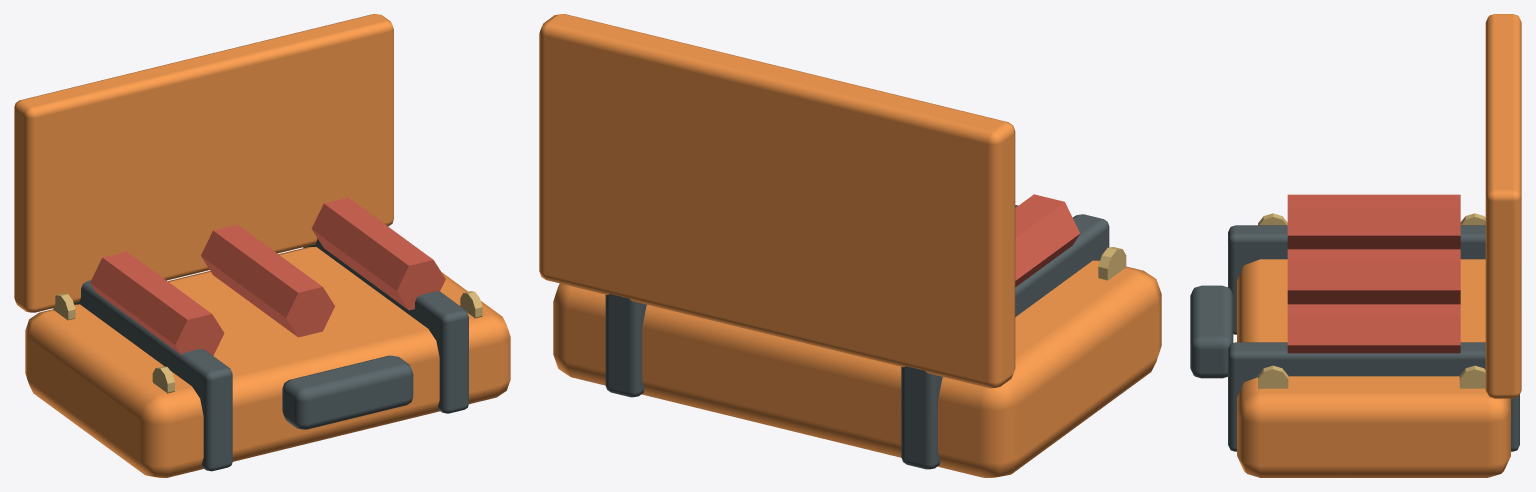
Rendered from castaway-island-escape-flare-launcher-case-0e0f378e__28061.glb.
The picture shows the model from 3 angles, left to right: view 1: azimuth 30°, elevation 25°; view 2: azimuth 150°, elevation 25°; view 3: azimuth 270°, elevation 25°; orthographic projection. The views are drawn at different scales.
Visible parts, largest first — view 1: flare-launcher-case-orange, flare-launcher-case-red, flare-launcher-case-iron, flare-launcher-case-brass; view 2: flare-launcher-case-orange, flare-launcher-case-iron, flare-launcher-case-red, flare-launcher-case-brass; view 3: flare-launcher-case-orange, flare-launcher-case-red, flare-launcher-case-iron, flare-launcher-case-brass.
Boxes of the visible parts, box(x1,y1,x2,y2) form: flare-launcher-case-orange: box(14, 14, 510, 477); flare-launcher-case-red: box(90, 197, 445, 355); flare-launcher-case-iron: box(74, 238, 468, 471); flare-launcher-case-brass: box(53, 291, 482, 393); flare-launcher-case-orange: box(539, 14, 1161, 477); flare-launcher-case-iron: box(605, 205, 1109, 469); flare-launcher-case-red: box(1015, 194, 1079, 287); flare-launcher-case-brass: box(1098, 247, 1126, 280); flare-launcher-case-orange: box(1237, 14, 1521, 477); flare-launcher-case-red: box(1287, 194, 1460, 353); flare-launcher-case-iron: box(1190, 225, 1519, 451); flare-launcher-case-brass: box(1258, 213, 1485, 389).
Size of the model in its own units: 0.6 by 0.45 by 0.46.
